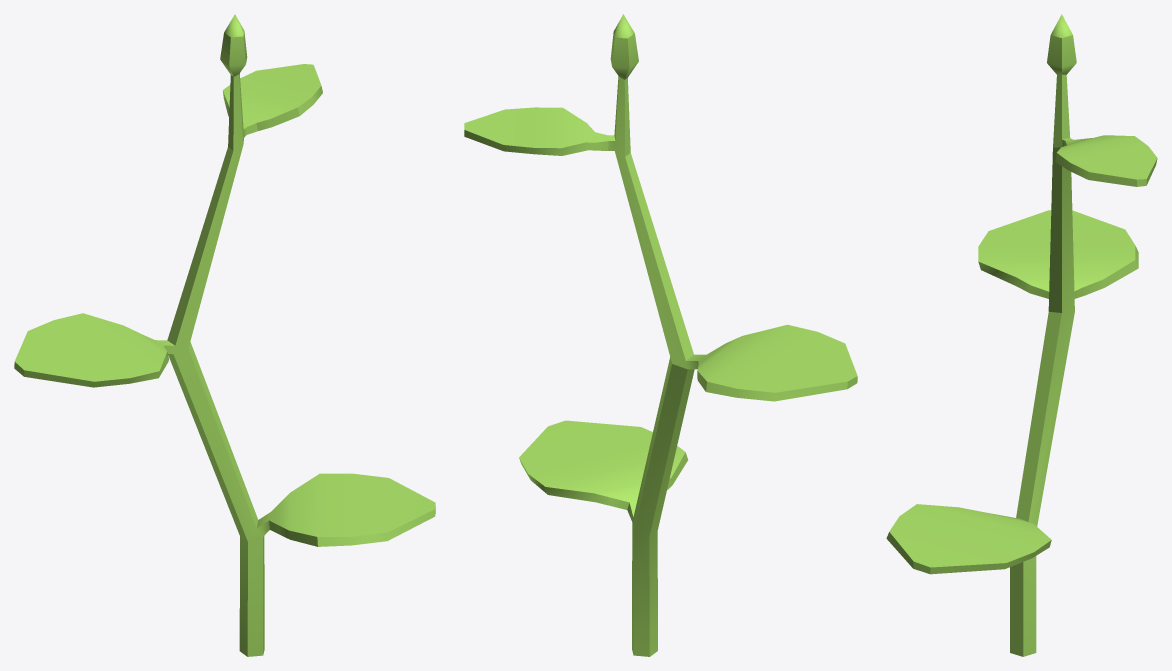
File: Plantform.fbx
3 renders of one model, left to right at view 1: azimuth 30°, elevation 25°; view 2: azimuth 150°, elevation 25°; view 3: azimuth 270°, elevation 25°, orthographic. The views are drawn at different scales.
Visible parts, largest first — view 1: pCylinder5; view 2: pCylinder5; view 3: pCylinder5.
Boxes of the visible parts, <box> form: pCylinder5: <box>14,14,435,656</box>; pCylinder5: <box>464,14,857,656</box>; pCylinder5: <box>886,14,1157,656</box>.
Bounding box in the file's own units: 11.22 × 18.89 × 7.28.
